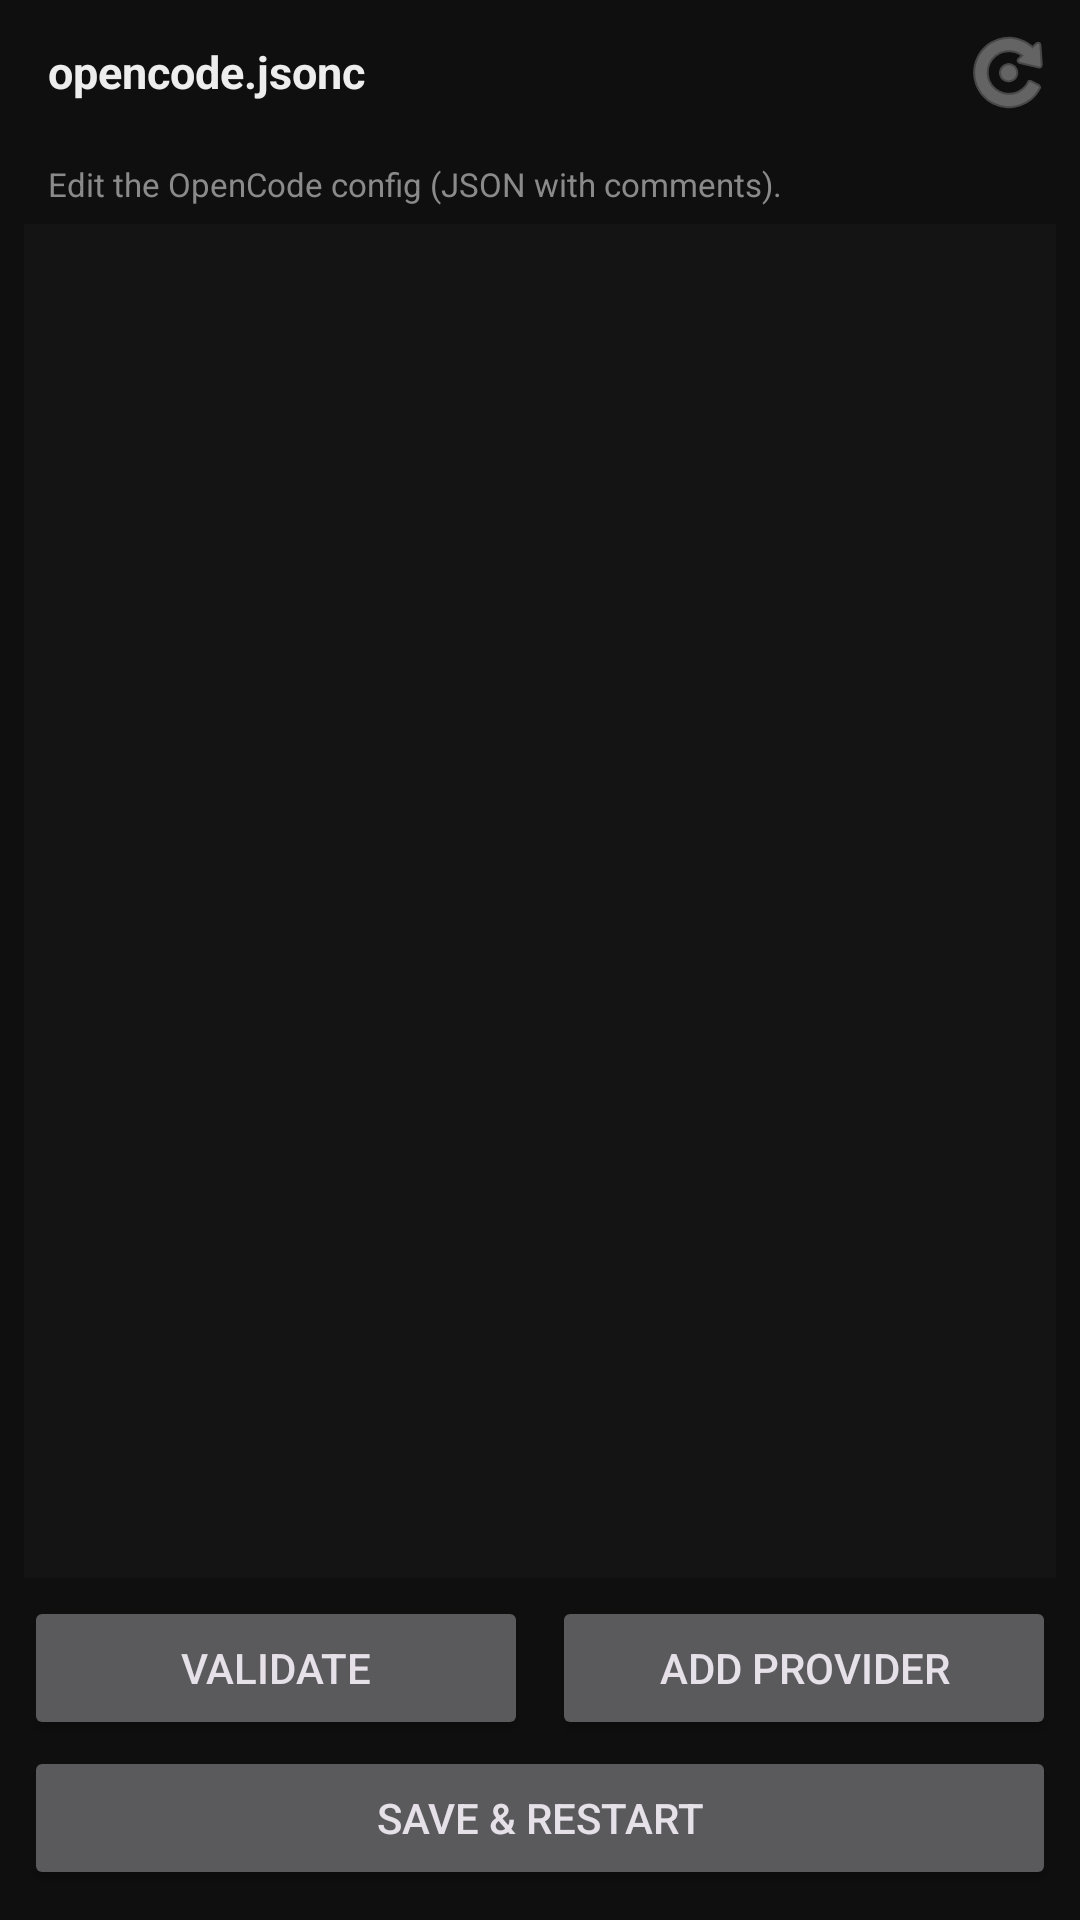

Icon bounding boxes for this 1080×1920 phone screenshot, format region(x1, y1, x2, y2):
Reload from disk: region(973, 37, 1043, 108)
